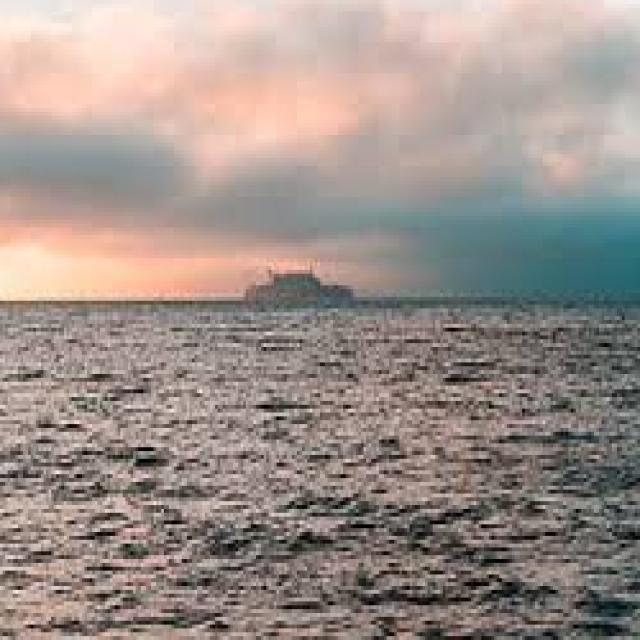fishing boat: (245, 247, 356, 320)
